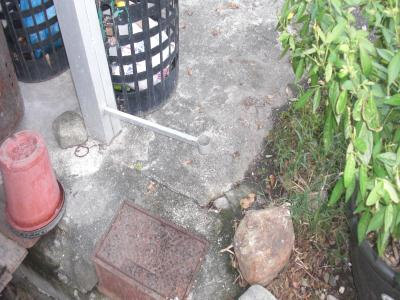bucket: (1, 125, 70, 242)
